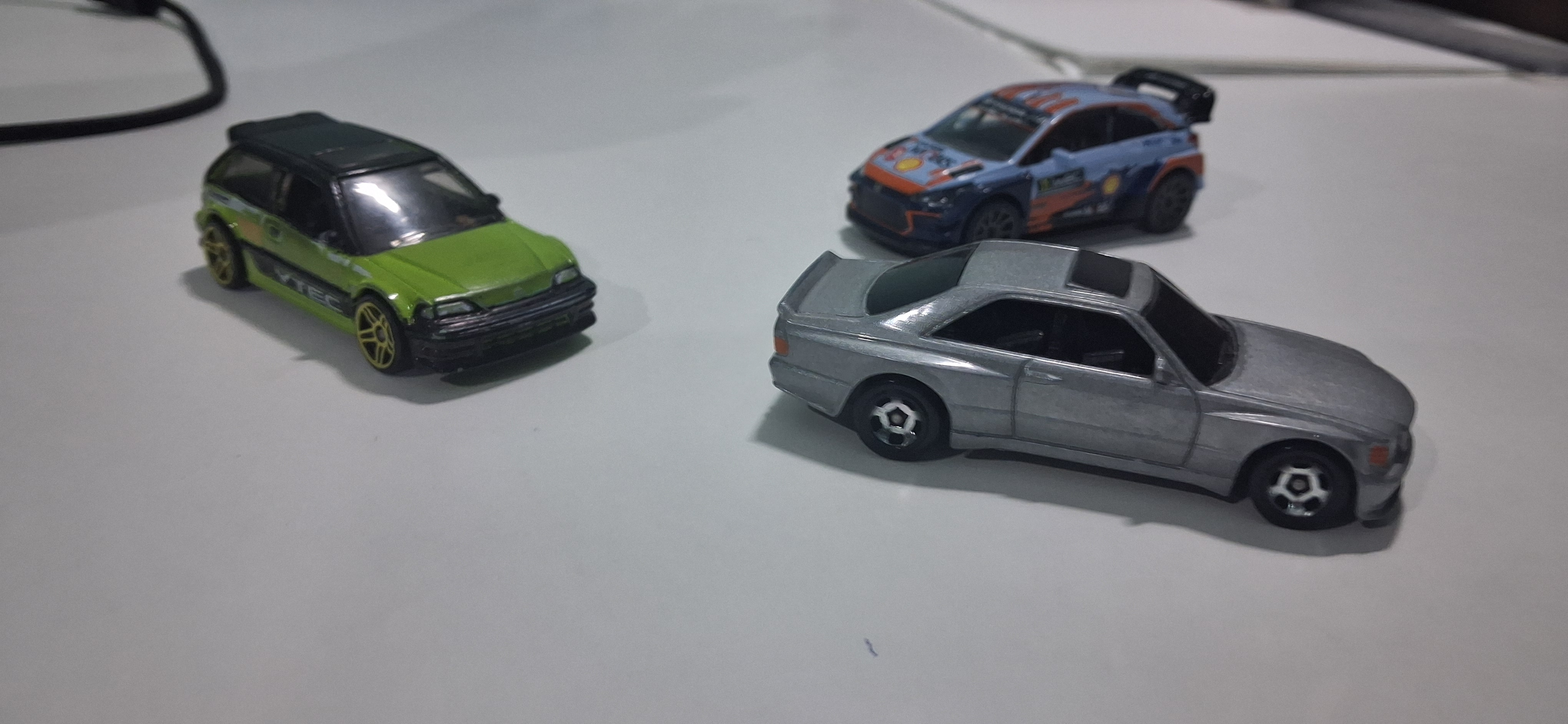Honda_Civic: (161, 72, 616, 403)
Hyundai_I20_WRC: (817, 56, 1300, 271)
Mercedes_Benz_560_SEC_AMG: (763, 201, 1443, 563)
